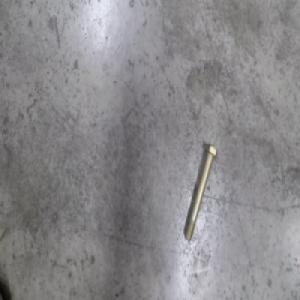Bolt: (183, 141, 218, 242)
